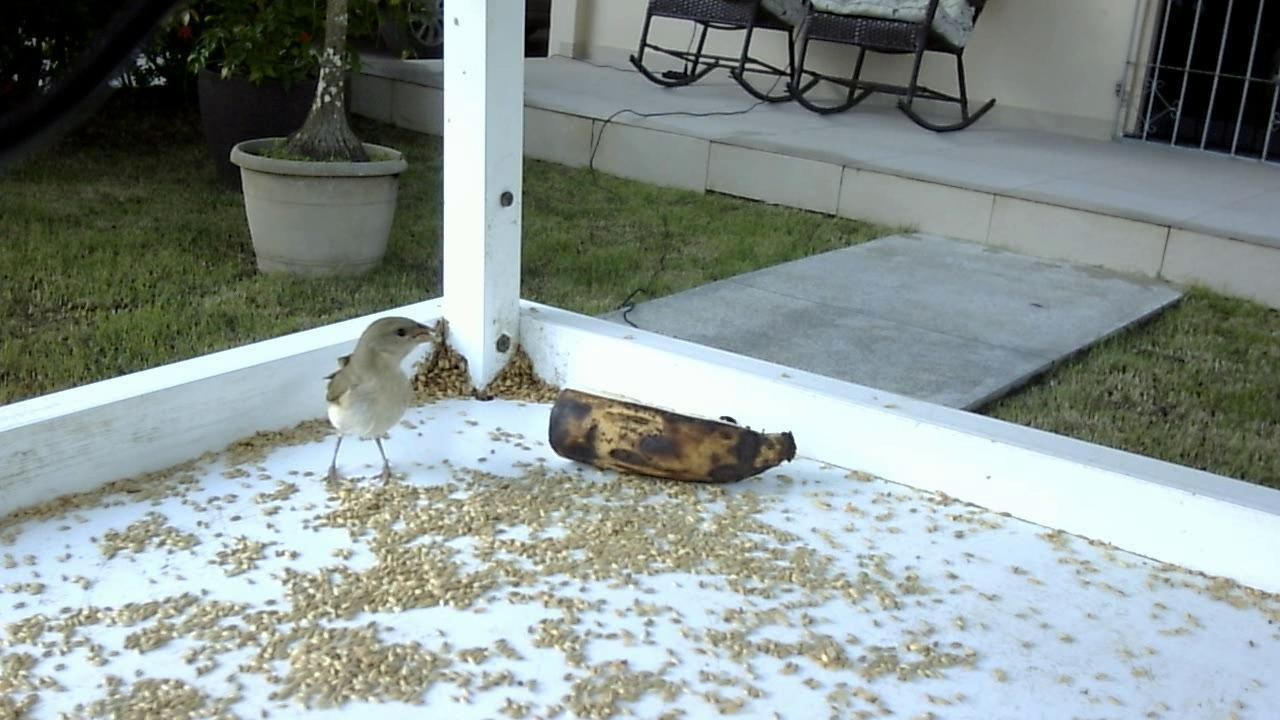canario_do_amazonas: (316, 310, 446, 491)
